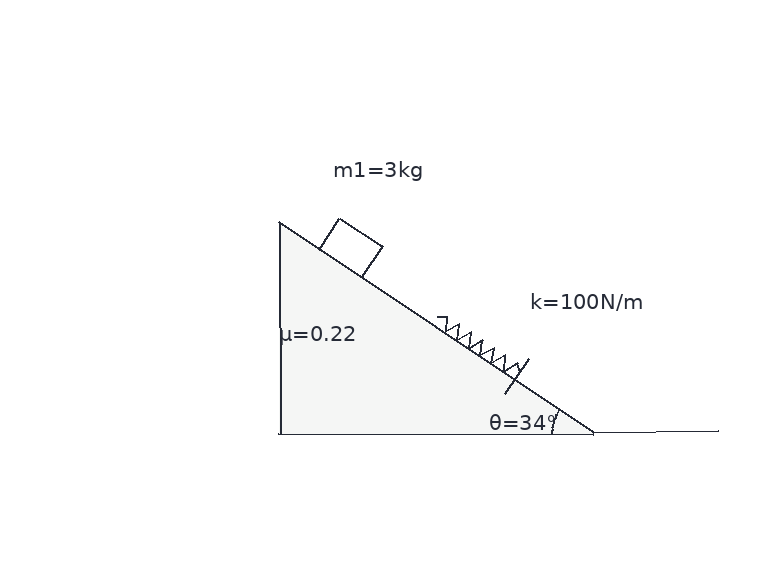block: (317, 216, 384, 279)
ramp: (277, 220, 594, 435)
spring: (436, 314, 521, 375)
